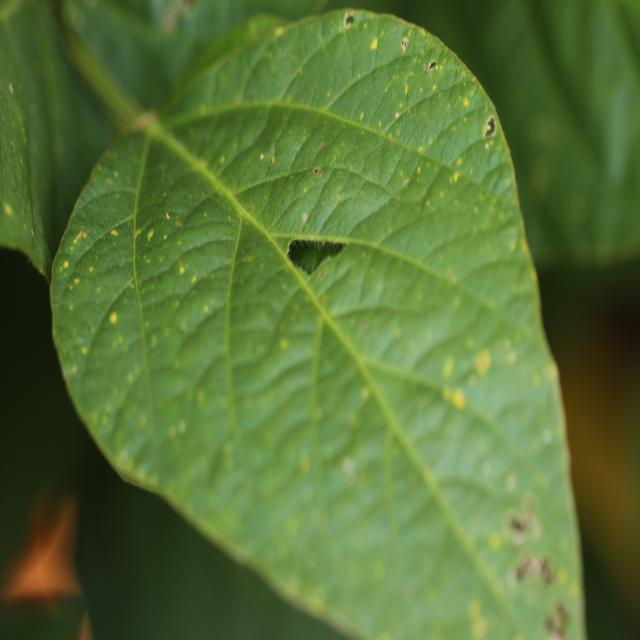Soybean: (0, 0, 590, 640)
downey_mildew: (370, 30, 479, 185), (497, 486, 567, 636), (447, 331, 530, 411), (252, 121, 328, 196), (0, 80, 34, 205), (62, 239, 110, 317), (135, 202, 202, 251), (311, 132, 365, 183), (506, 496, 540, 544), (159, 0, 195, 35), (529, 155, 554, 192), (467, 600, 488, 639), (68, 230, 91, 260), (443, 384, 467, 411), (65, 3, 86, 31), (133, 110, 157, 133), (473, 349, 491, 374), (340, 455, 356, 477), (303, 548, 317, 570), (442, 357, 455, 379), (488, 532, 502, 552), (372, 560, 385, 580), (223, 449, 234, 471), (299, 455, 311, 474), (505, 473, 517, 492), (424, 59, 437, 75), (481, 460, 492, 478), (74, 230, 87, 244), (344, 13, 355, 28), (360, 386, 370, 400), (507, 350, 517, 364), (167, 425, 177, 438), (400, 37, 408, 53), (177, 420, 186, 434), (279, 338, 289, 350), (360, 318, 369, 331), (120, 450, 129, 463), (197, 390, 205, 404), (4, 203, 13, 215), (370, 37, 378, 50), (275, 26, 284, 37), (100, 414, 108, 426), (462, 97, 470, 108), (69, 364, 77, 375), (147, 230, 154, 241), (127, 372, 134, 383), (403, 176, 409, 187), (110, 229, 118, 237), (259, 152, 266, 161), (134, 229, 141, 238), (318, 271, 325, 280), (39, 268, 46, 277), (175, 219, 182, 227), (246, 255, 253, 263), (9, 83, 14, 94), (191, 275, 197, 284), (81, 346, 87, 355), (11, 142, 16, 152), (63, 261, 69, 269), (394, 111, 400, 119), (270, 155, 275, 164), (417, 165, 422, 174), (220, 155, 225, 164), (74, 277, 80, 284), (165, 212, 170, 220), (404, 84, 408, 94), (359, 112, 364, 120), (250, 201, 255, 208), (432, 84, 437, 91), (471, 77, 476, 83), (390, 139, 394, 146), (163, 234, 167, 241), (399, 102, 403, 108), (204, 212, 208, 217), (163, 192, 167, 197), (321, 142, 324, 148)
